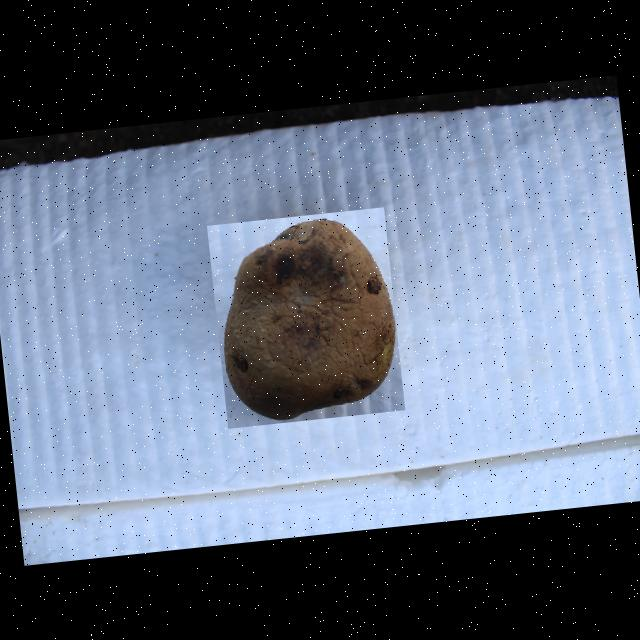Defected potato: (206, 207, 404, 428)
